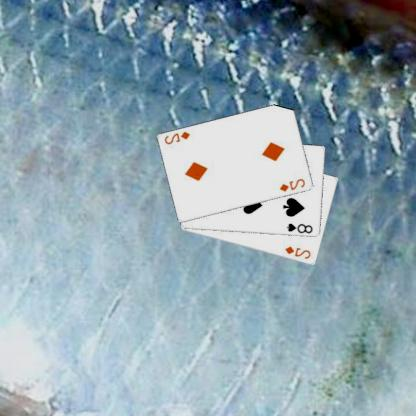2D: (279, 176, 309, 193), (164, 129, 193, 146), (284, 244, 314, 260)
8S: (286, 221, 316, 235)
